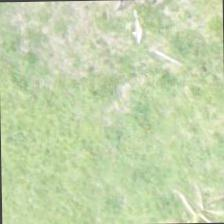Kelapa_Sawit: (154, 167, 223, 223)
